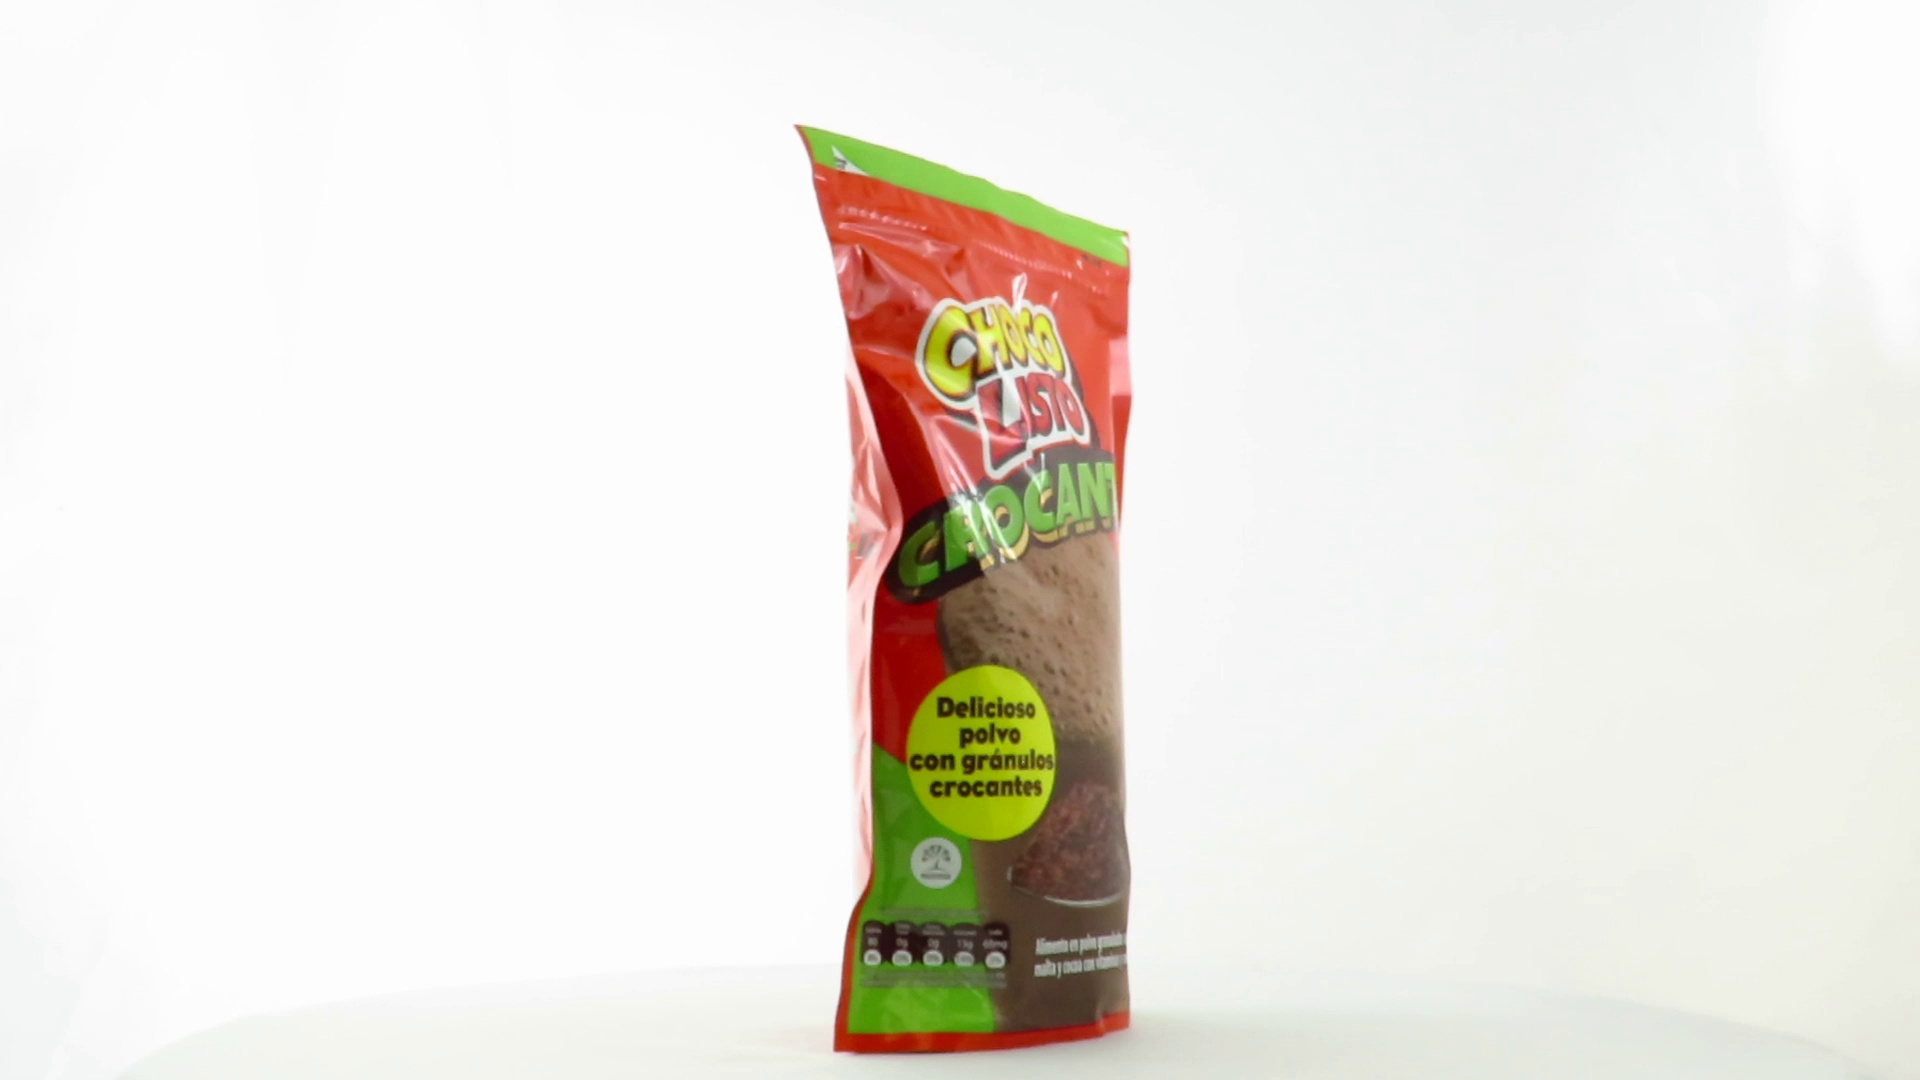COL0170102DYP50000: (789, 119, 1138, 1062)
